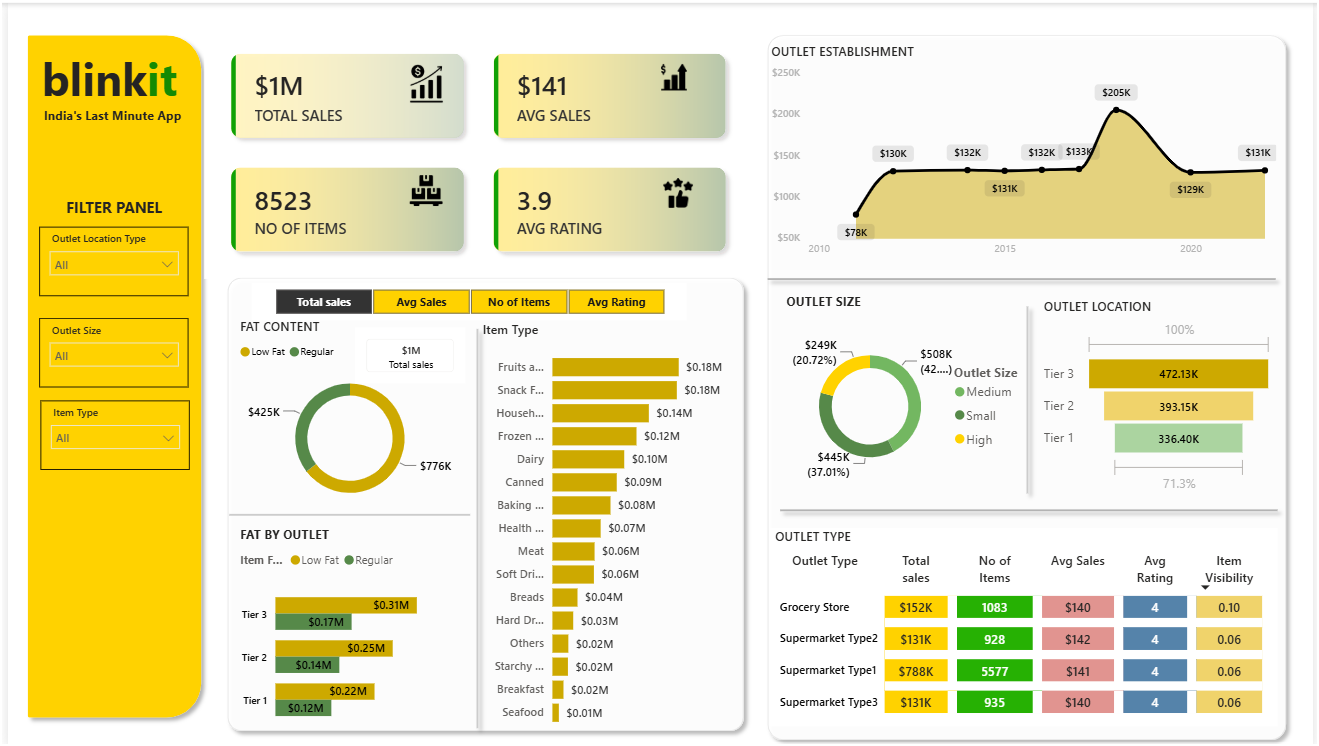

What the dashboard file says about the page in this screenshot:
{"tool":"powerbi","page":{"name":"Page 1","canvas":[1400,800],"ordinal":0},"visuals":[{"type":"shape","box":[12.5,25,204.2,750],"z":0},{"type":"textbox","box":[21.5,43.1,174.6,74.6],"z":1000},{"type":"textbox","box":[33,106.6,162.1,34.5],"z":2000},{"type":"cardVisual","fields":{"Data":["BlinkIT Grocery Data.Total sales","BlinkIT Grocery Data.Avg Sales","BlinkIT Grocery Data.No of Items","BlinkIT Grocery Data.Avg Rating"]},"box":[210,25.7,588.6,270],"z":3000},{"type":"image","box":[420,65.7,58.6,41.4],"z":4000},{"type":"image","box":[685,65,58.8,30],"z":5000},{"type":"image","box":[428.1,183.8,41.9,35],"z":6000},{"type":"image","box":[693,187,51,32],"z":7000},{"type":"shape","box":[227.1,285.7,571.4,504.3],"z":8000},{"type":"slicer","fields":{"Values":["Metrics.Metrics"]},"box":[261.7,300,466.7,40],"z":9000},{"type":"clusteredBarChart","title":"FAT BY OUTLET","fields":{"Y":["BlinkIT Grocery Data.Total sales"],"Category":["BlinkIT Grocery Data.Outlet Location Type"],"Series":["BlinkIT Grocery Data.Item Fat Content"]},"box":[244.3,560,245.7,230],"z":10000},{"type":"donutChart","title":"FAT CONTENT","fields":{"Y":["BlinkIT Grocery Data.Total sales"],"Category":["BlinkIT Grocery Data.Item Fat Content"]},"box":[244.3,337.1,245.7,212.9],"z":11000},{"type":"cardVisual","fields":{"Data":["BlinkIT Grocery Data.Total sales"]},"box":[367.1,342.9,128.6,70],"z":12000},{"type":"shape","box":[237.1,528.6,258.6,41.4],"z":13000},{"type":"shape","box":[458.8,340,90,446.2],"z":14000},{"type":"barChart","title":"Item Type","fields":{"Y":["BlinkIT Grocery Data.Total sales"],"Category":["BlinkIT Grocery Data.Item Type"]},"box":[504.3,340,267.1,445.7],"z":15000},{"type":"shape","box":[806,26,574,774],"z":16000},{"type":"lineChart","title":"OUTLET ESTABLISHMENT","fields":{"Y":["BlinkIT Grocery Data.Total sales"],"Category":["BlinkIT Grocery Data.Outlet Establishment Year"]},"box":[814.3,42.9,551.4,237.1],"z":17000},{"type":"shape","box":[805.7,277.1,562.9,37.1],"z":18000},{"type":"donutChart","title":"OUTLET SIZE","fields":{"Category":["BlinkIT Grocery Data.Outlet Size"],"Y":["BlinkIT Grocery Data.Total sales"]},"box":[830,311.4,275.7,225.7],"z":19000},{"type":"shape","box":[1048.6,315.7,90,218.6],"z":20000},{"type":"funnel","title":"OUTLET LOCATION","fields":{"Y":["Sum(BlinkIT Grocery Data.Sales)"],"Category":["BlinkIT Grocery Data.Outlet Location Type"]},"box":[1105.7,315.7,255.7,214.3],"z":21000},{"type":"shape","box":[818.6,525.7,551.4,37.1],"z":22000},{"type":"pivotTable","title":"OUTLET TYPE","fields":{"Rows":["BlinkIT Grocery Data.Outlet Type"],"Values":["BlinkIT Grocery Data.Total sales","BlinkIT Grocery Data.No of Items","BlinkIT Grocery Data.Avg Sales","BlinkIT Grocery Data.Avg Rating","Avg(BlinkIT Grocery Data.Item Visibility)"]},"box":[817.1,562.9,544.3,212.9],"z":23000},{"type":"slicer","fields":{"Values":["BlinkIT Grocery Data.Outlet Location Type"]},"box":[32.9,240,160,74.3],"z":24000},{"type":"slicer","fields":{"Values":["BlinkIT Grocery Data.Outlet Size"]},"box":[32.9,337.1,160,74.3],"z":25000},{"type":"slicer","fields":{"Values":["BlinkIT Grocery Data.Item Type"]},"box":[34.3,425.7,160,74.3],"z":26000},{"type":"textbox","box":[51.4,202.9,125.7,37.1],"z":27000}]}

Visuals, with their boxes in screenshot pixels (x1, y1, x2, y2), scaled from the page's 1400x800 canvas onto the 1319x746 screenshot:
shape: bbox=(12, 23, 204, 723)
textbox: bbox=(20, 40, 185, 110)
textbox: bbox=(31, 99, 184, 132)
cardVisual - BlinkIT Grocery Data.Total sales x BlinkIT Grocery Data.Avg Sales: bbox=(198, 24, 752, 276)
image: bbox=(396, 61, 451, 100)
image: bbox=(645, 61, 701, 89)
image: bbox=(403, 171, 443, 204)
image: bbox=(653, 174, 701, 204)
shape: bbox=(214, 266, 752, 737)
slicer - Metrics.Metrics: bbox=(247, 280, 686, 317)
"FAT BY OUTLET" clusteredBarChart: bbox=(230, 522, 462, 737)
"FAT CONTENT" donutChart: bbox=(230, 314, 462, 513)
cardVisual - BlinkIT Grocery Data.Total sales: bbox=(346, 320, 467, 385)
shape: bbox=(223, 493, 467, 532)
shape: bbox=(432, 317, 517, 733)
"Item Type" barChart: bbox=(475, 317, 727, 733)
shape: bbox=(759, 24, 1300, 745)
"OUTLET ESTABLISHMENT" lineChart: bbox=(767, 40, 1287, 261)
shape: bbox=(759, 258, 1289, 293)
"OUTLET SIZE" donutChart: bbox=(782, 290, 1042, 501)
shape: bbox=(988, 294, 1073, 498)
"OUTLET LOCATION" funnel: bbox=(1042, 294, 1283, 494)
shape: bbox=(771, 490, 1291, 525)
"OUTLET TYPE" pivotTable: bbox=(770, 525, 1283, 723)
slicer - BlinkIT Grocery Data.Outlet Location Type: bbox=(31, 224, 182, 293)
slicer - BlinkIT Grocery Data.Outlet Size: bbox=(31, 314, 182, 384)
slicer - BlinkIT Grocery Data.Item Type: bbox=(32, 397, 183, 466)
textbox: bbox=(48, 189, 167, 224)
